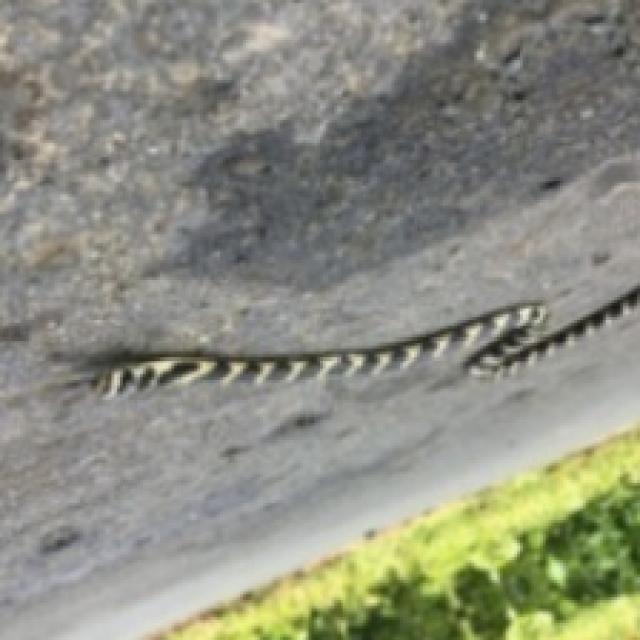king cobra: (91, 303, 543, 394)
